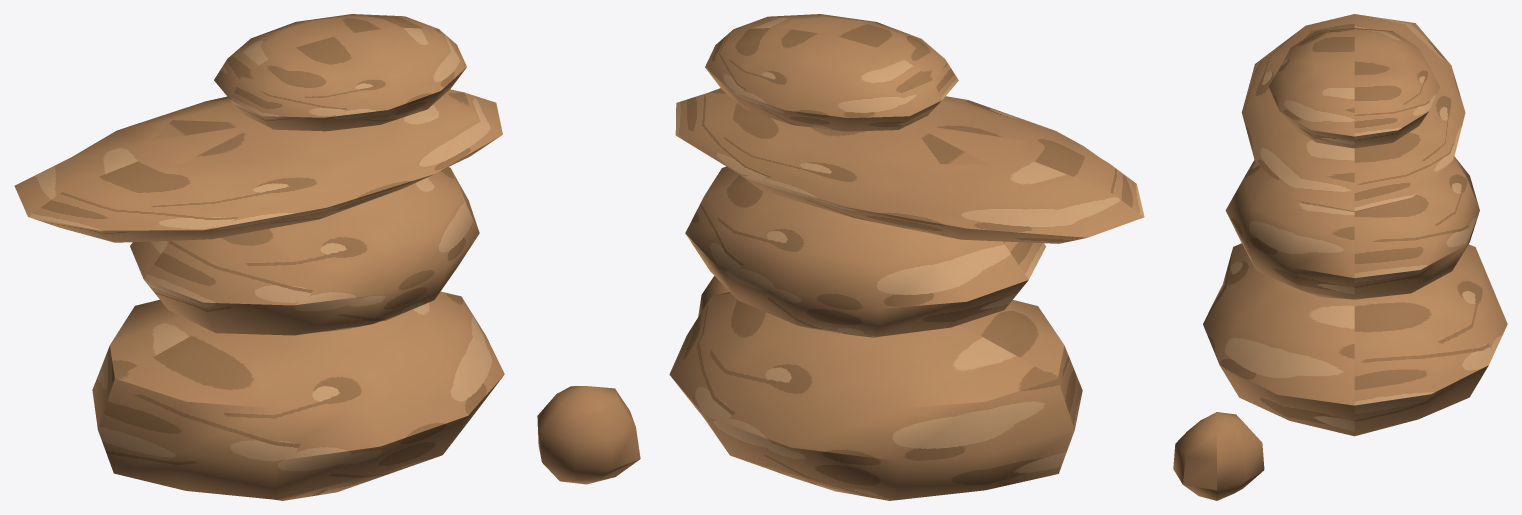
Rendered from env_qob_rock_b.glb.
3 renders of one model, left to right at view 1: azimuth 30°, elevation 25°; view 2: azimuth 150°, elevation 25°; view 3: azimuth 270°, elevation 25°, orthographic. The views are drawn at different scales.
Visible parts, largest first — view 1: env_qob_rock_b; view 2: env_qob_rock_b; view 3: env_qob_rock_b.
Part boxes in pixels (x1,y1,x2,y2): env_qob_rock_b: (14, 14, 640, 500); env_qob_rock_b: (669, 14, 1144, 500); env_qob_rock_b: (1173, 14, 1507, 500).
Size of the model in its own units: 6.88 by 5.39 by 4.38.
Materials: 1 (1 with a texture image).
